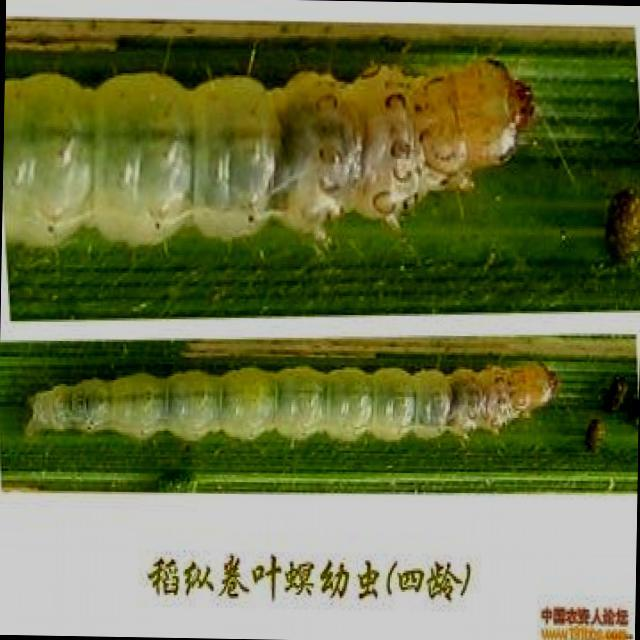leaf folder: (4, 56, 594, 292), (28, 363, 553, 441)
